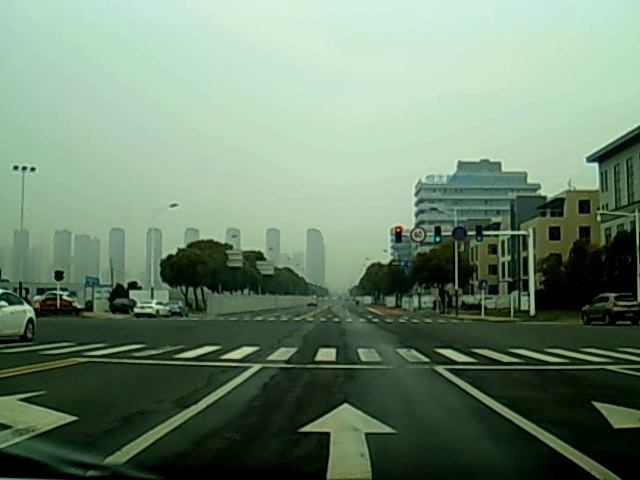Traffic_Light_go: (475, 224, 483, 247), (433, 226, 442, 245)
Traffic_Light_stop: (394, 225, 402, 247)
